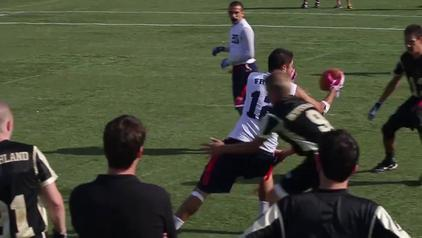down: (372, 77, 422, 173)
sit: (372, 77, 422, 173), (318, 59, 346, 111)
walk: (374, 18, 422, 125)
